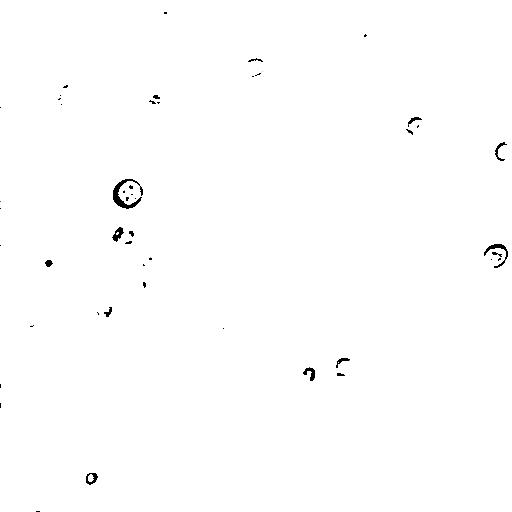micro-algae: (474, 3, 512, 101), (370, 62, 413, 108), (89, 207, 133, 249), (34, 246, 69, 279), (19, 302, 47, 338), (112, 179, 143, 209), (134, 249, 161, 279), (56, 80, 83, 109), (0, 378, 23, 410), (482, 243, 509, 269), (331, 356, 359, 380), (133, 275, 161, 297), (405, 115, 431, 137), (241, 57, 268, 77), (355, 26, 375, 49), (157, 4, 177, 26), (113, 226, 134, 246), (95, 298, 113, 319), (494, 141, 511, 162), (85, 469, 99, 485), (303, 365, 316, 381)
